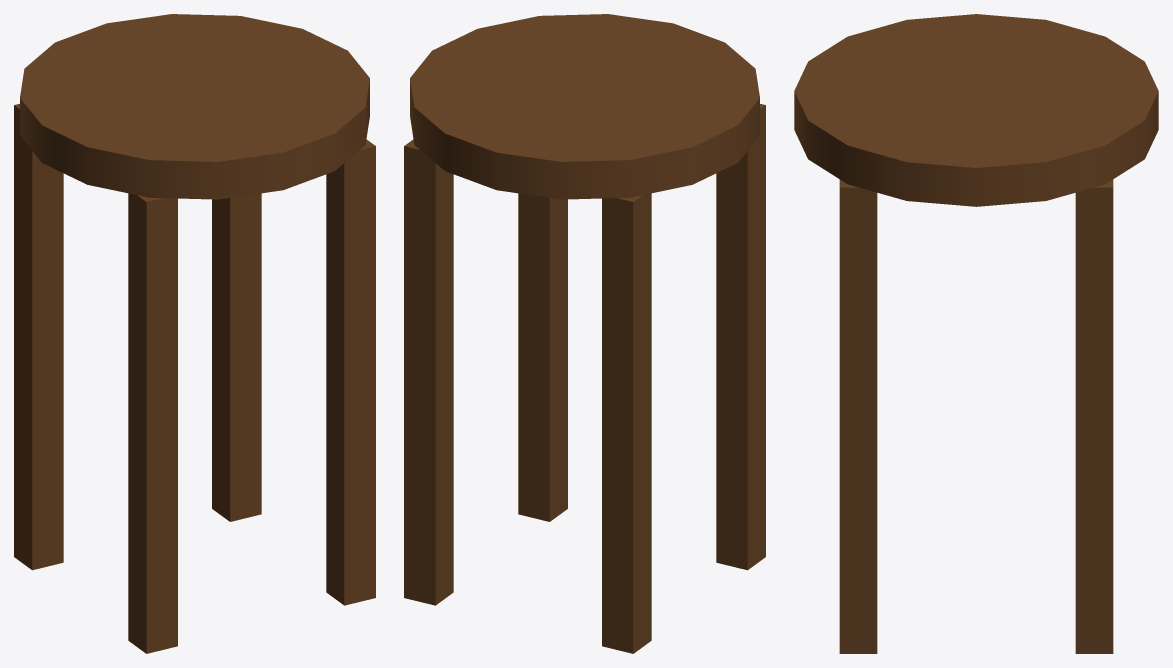
The model's file is stool.glb.
3 views of the same model, side by side, from view 1: azimuth 30°, elevation 25°; view 2: azimuth 150°, elevation 25°; view 3: azimuth 270°, elevation 25° (orthographic). The views are drawn at different scales.
Visible parts, largest first — view 1: stool; view 2: stool; view 3: stool.
Boxes of the visible parts, x1=… form: stool: x1=14, y1=14, x2=375, y2=653; stool: x1=404, y1=14, x2=765, y2=653; stool: x1=794, y1=14, x2=1158, y2=653.
Bounding box in the file's own units: 0.34 × 0.52 × 0.34.
